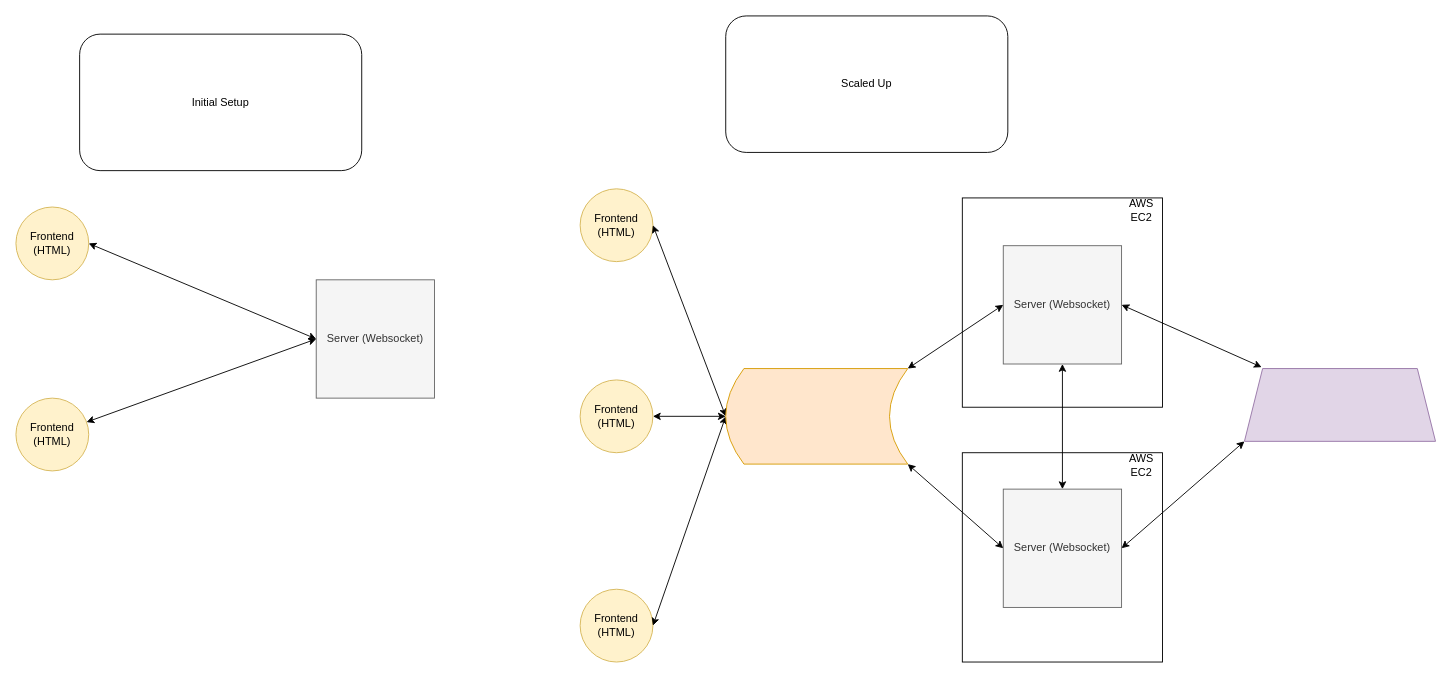
The diagram is 1451 pixels wide and 678 high, and some of its shapes have lost their labels. Each missing label, with the centre of its shape:
"Data Store (AWS Elasticache For Redis)" belongs at point (1340, 404).
"Load Balancer (AWS ELB)" belongs at point (816, 416).
